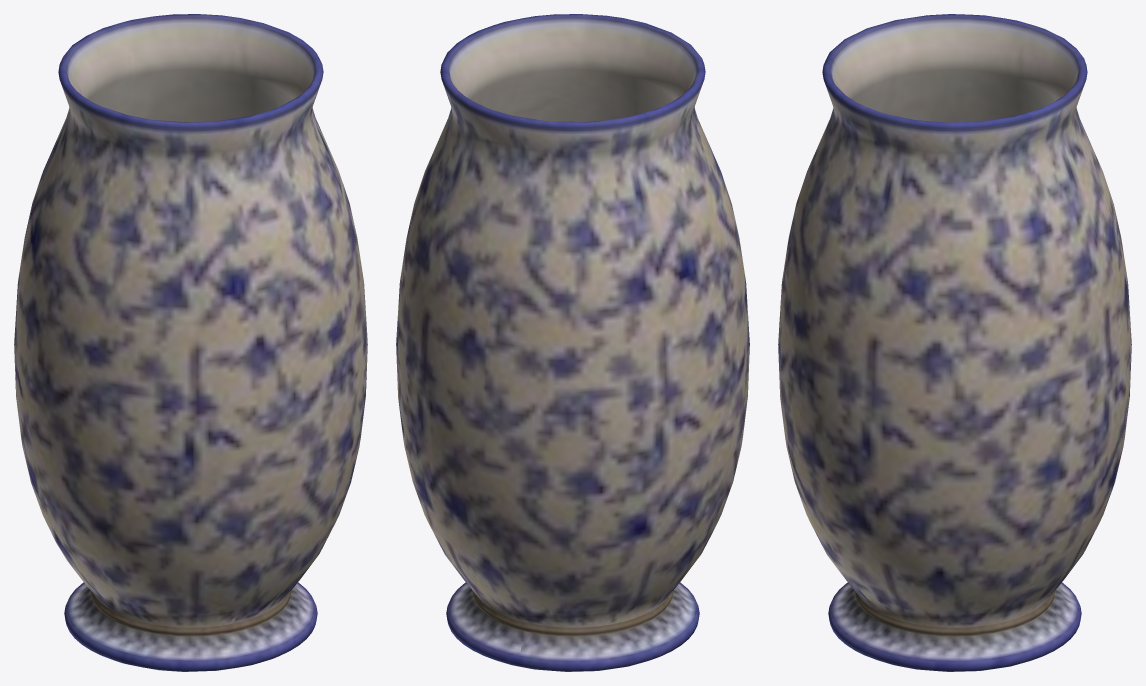
The model's file is antique_ceramic_vase_01.gltf.
3 renders of one model, left to right at view 1: azimuth 30°, elevation 25°; view 2: azimuth 150°, elevation 25°; view 3: azimuth 270°, elevation 25°, orthographic.
Parts seen in each view (by area): view 1: antique_ceramic_vase_01; view 2: antique_ceramic_vase_01; view 3: antique_ceramic_vase_01.
Part boxes in pixels (x1,y1,x2,y2): antique_ceramic_vase_01: (14,14,367,671); antique_ceramic_vase_01: (396,14,749,671); antique_ceramic_vase_01: (778,14,1131,671).
Size of the model in its own units: 0.2554 by 0.4396 by 0.2554.
Materials: 1 (1 with a texture image).
